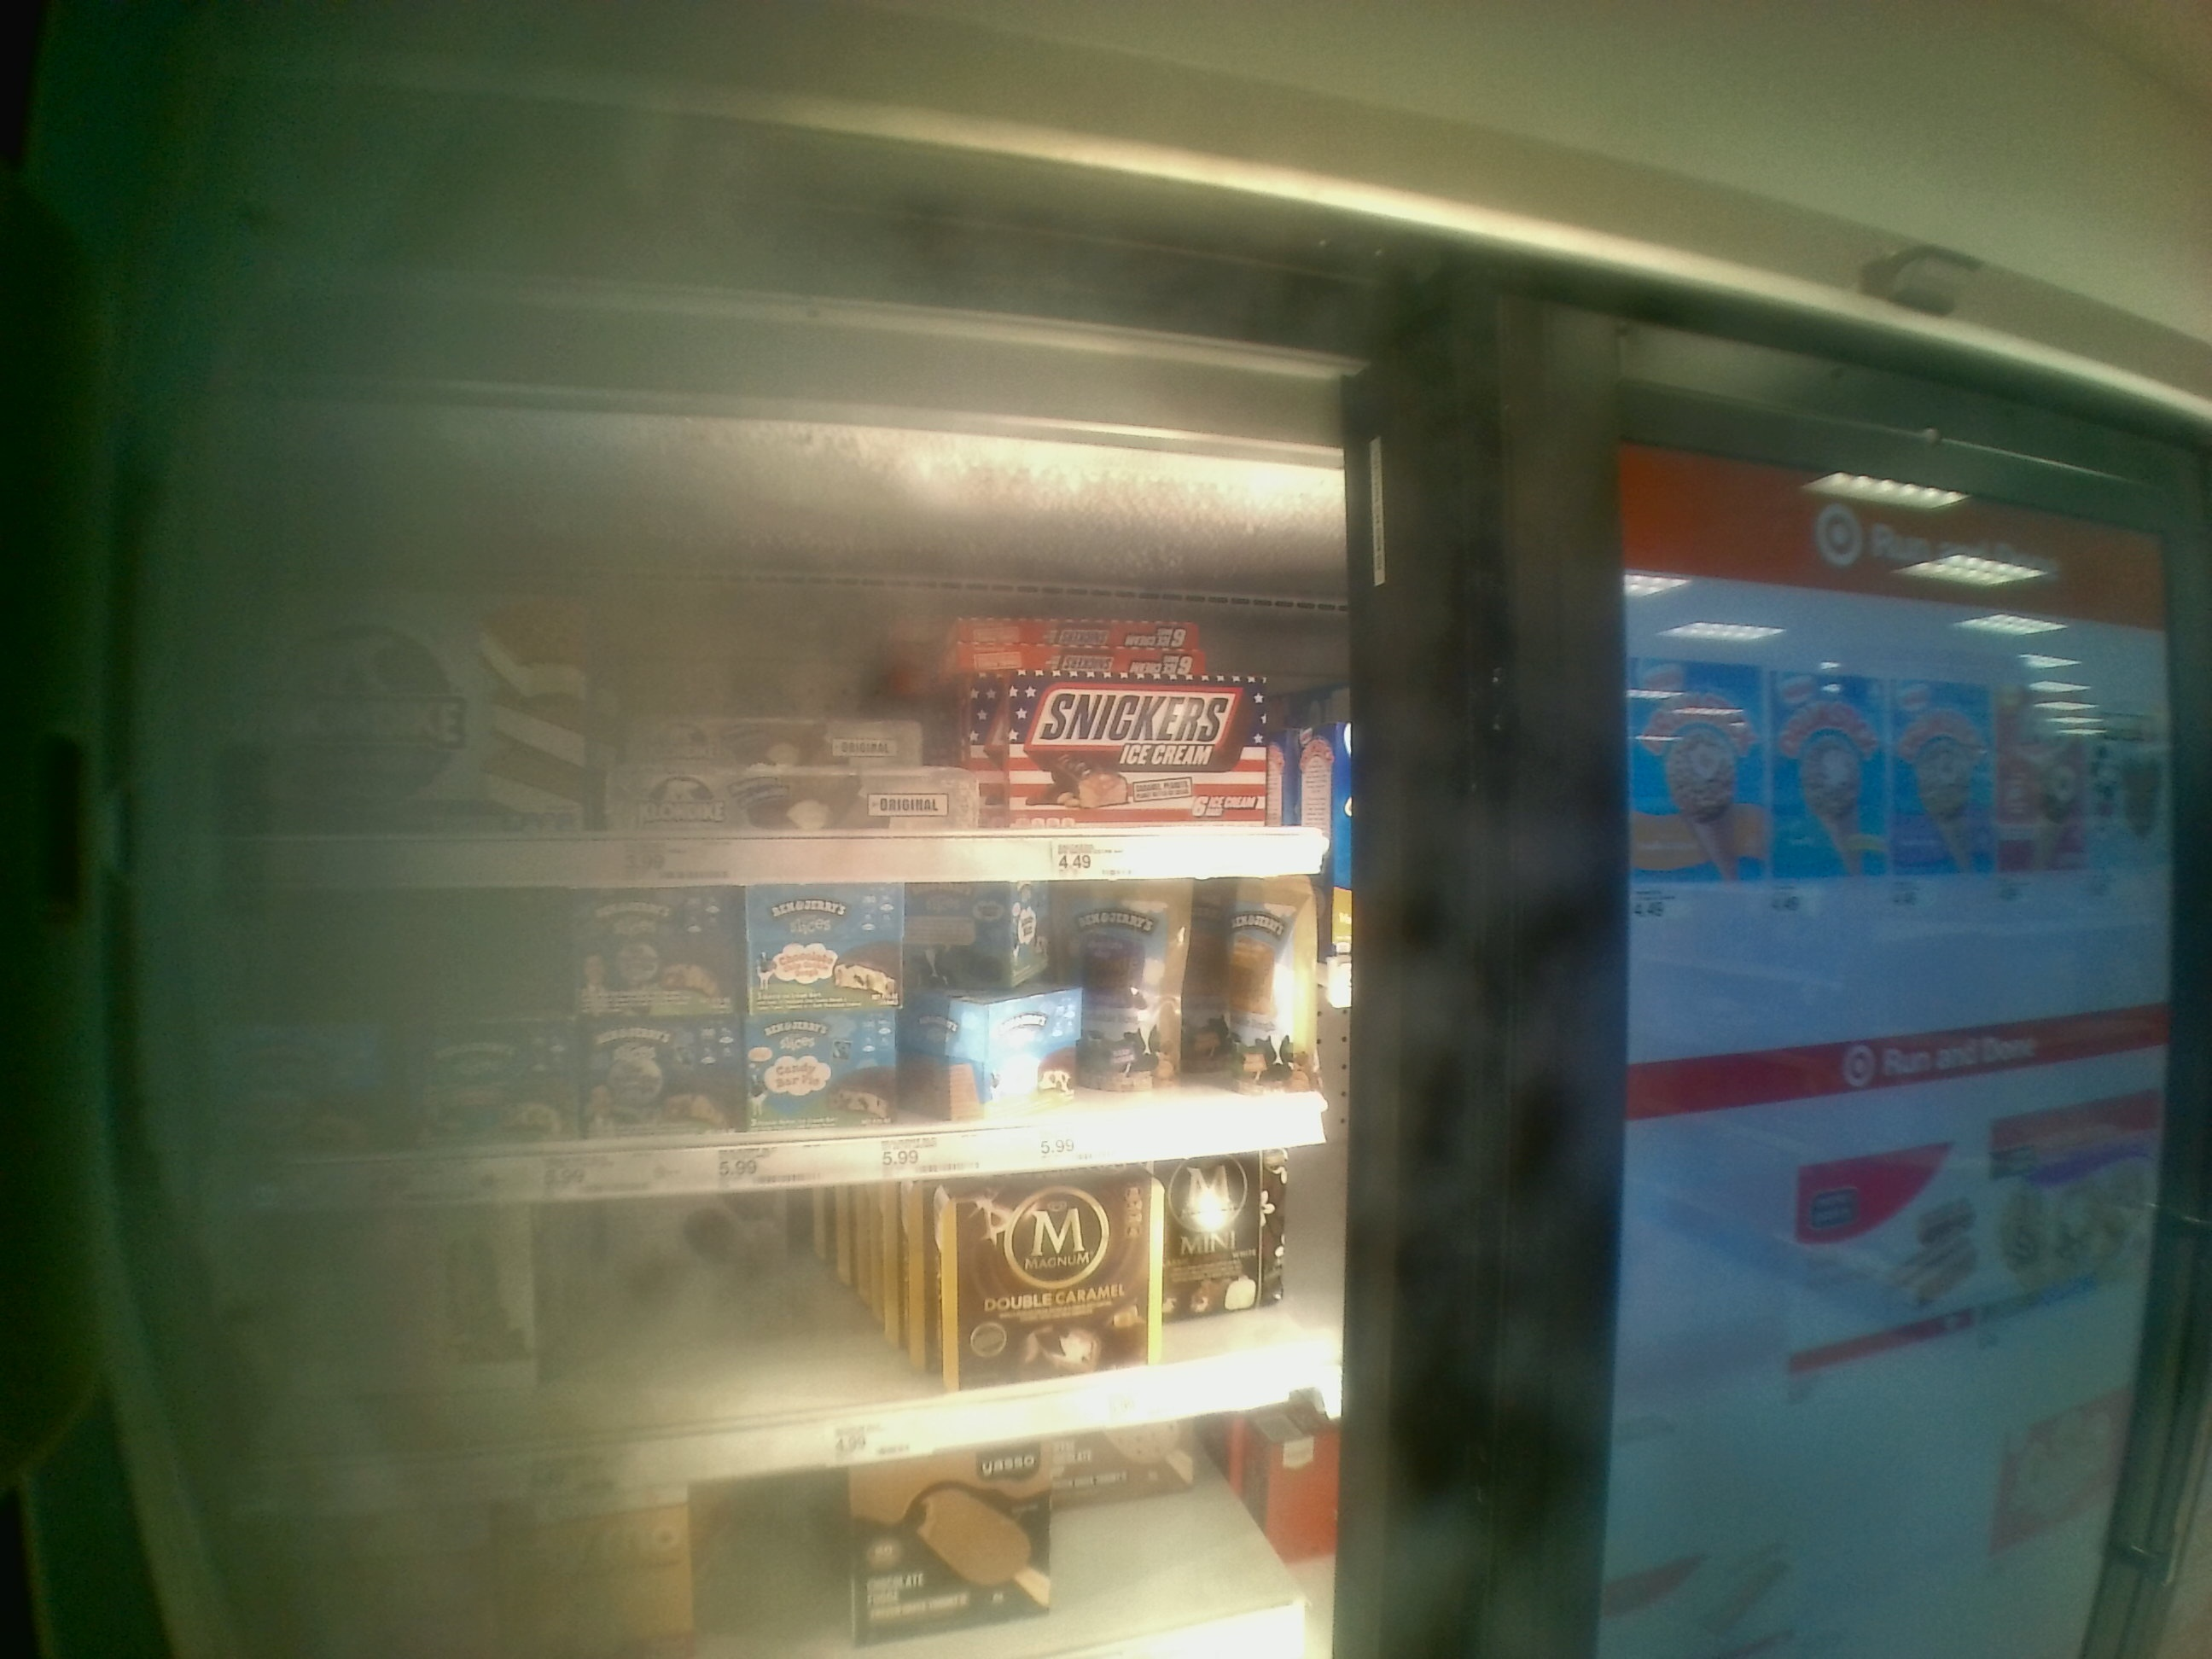shelf: (179, 490, 1315, 878), (160, 882, 1348, 1213)
